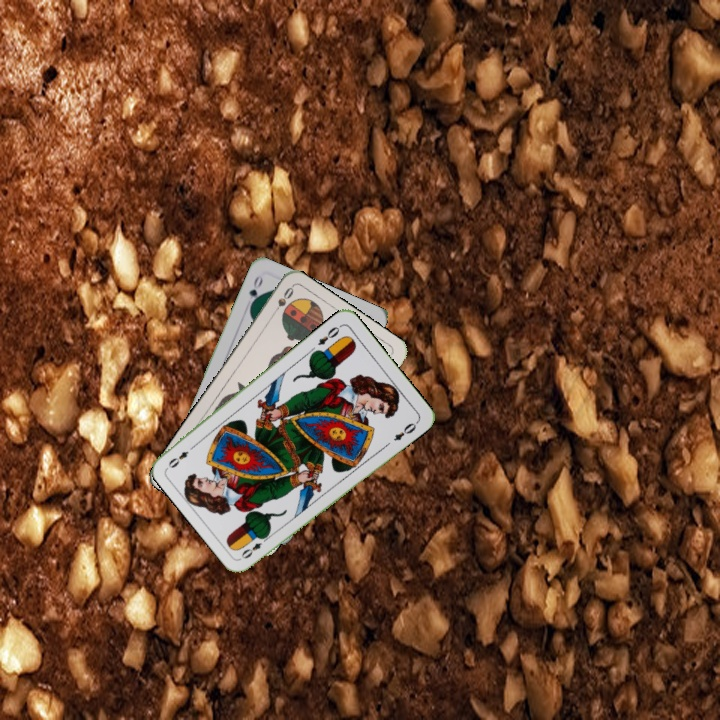EO: (237, 531, 272, 562), (313, 321, 344, 348)
GO: (245, 272, 266, 311)
SO: (268, 283, 296, 319)
